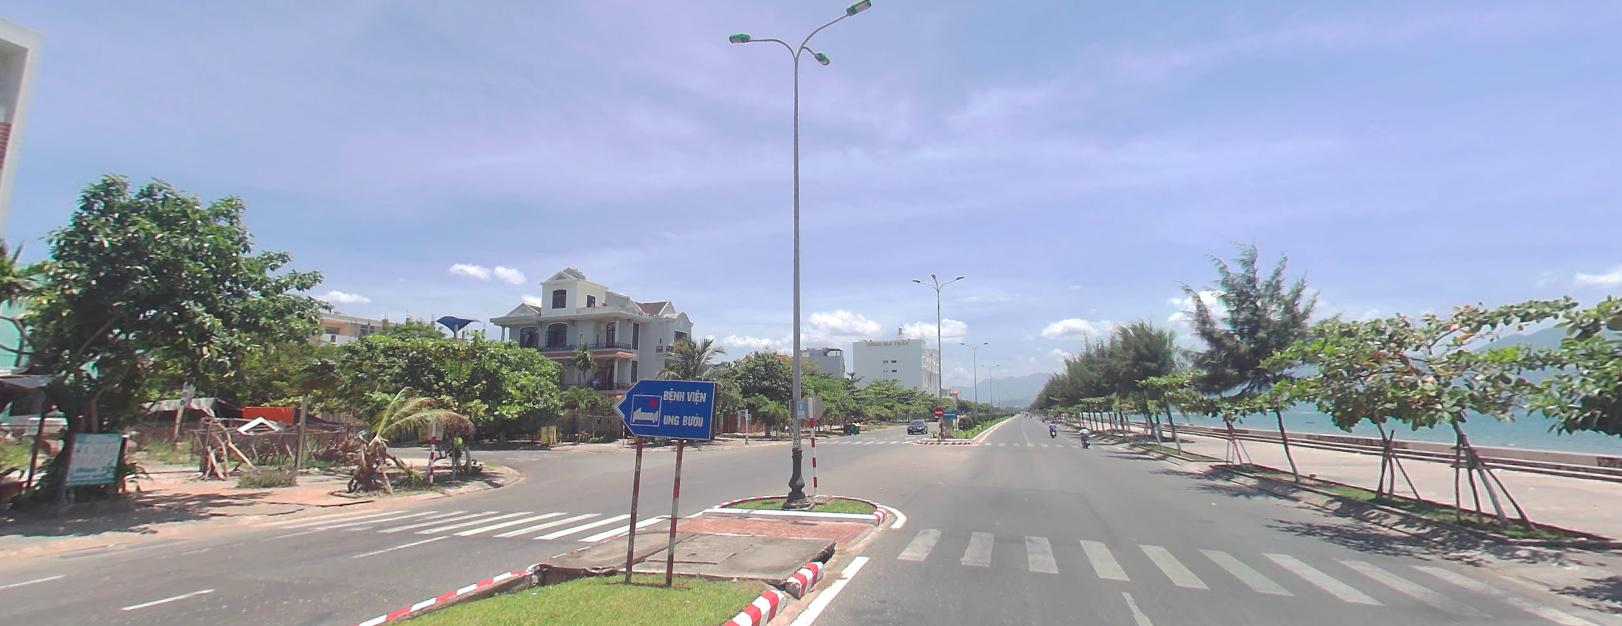Cam nguoc chieu: (933, 405, 942, 415)
